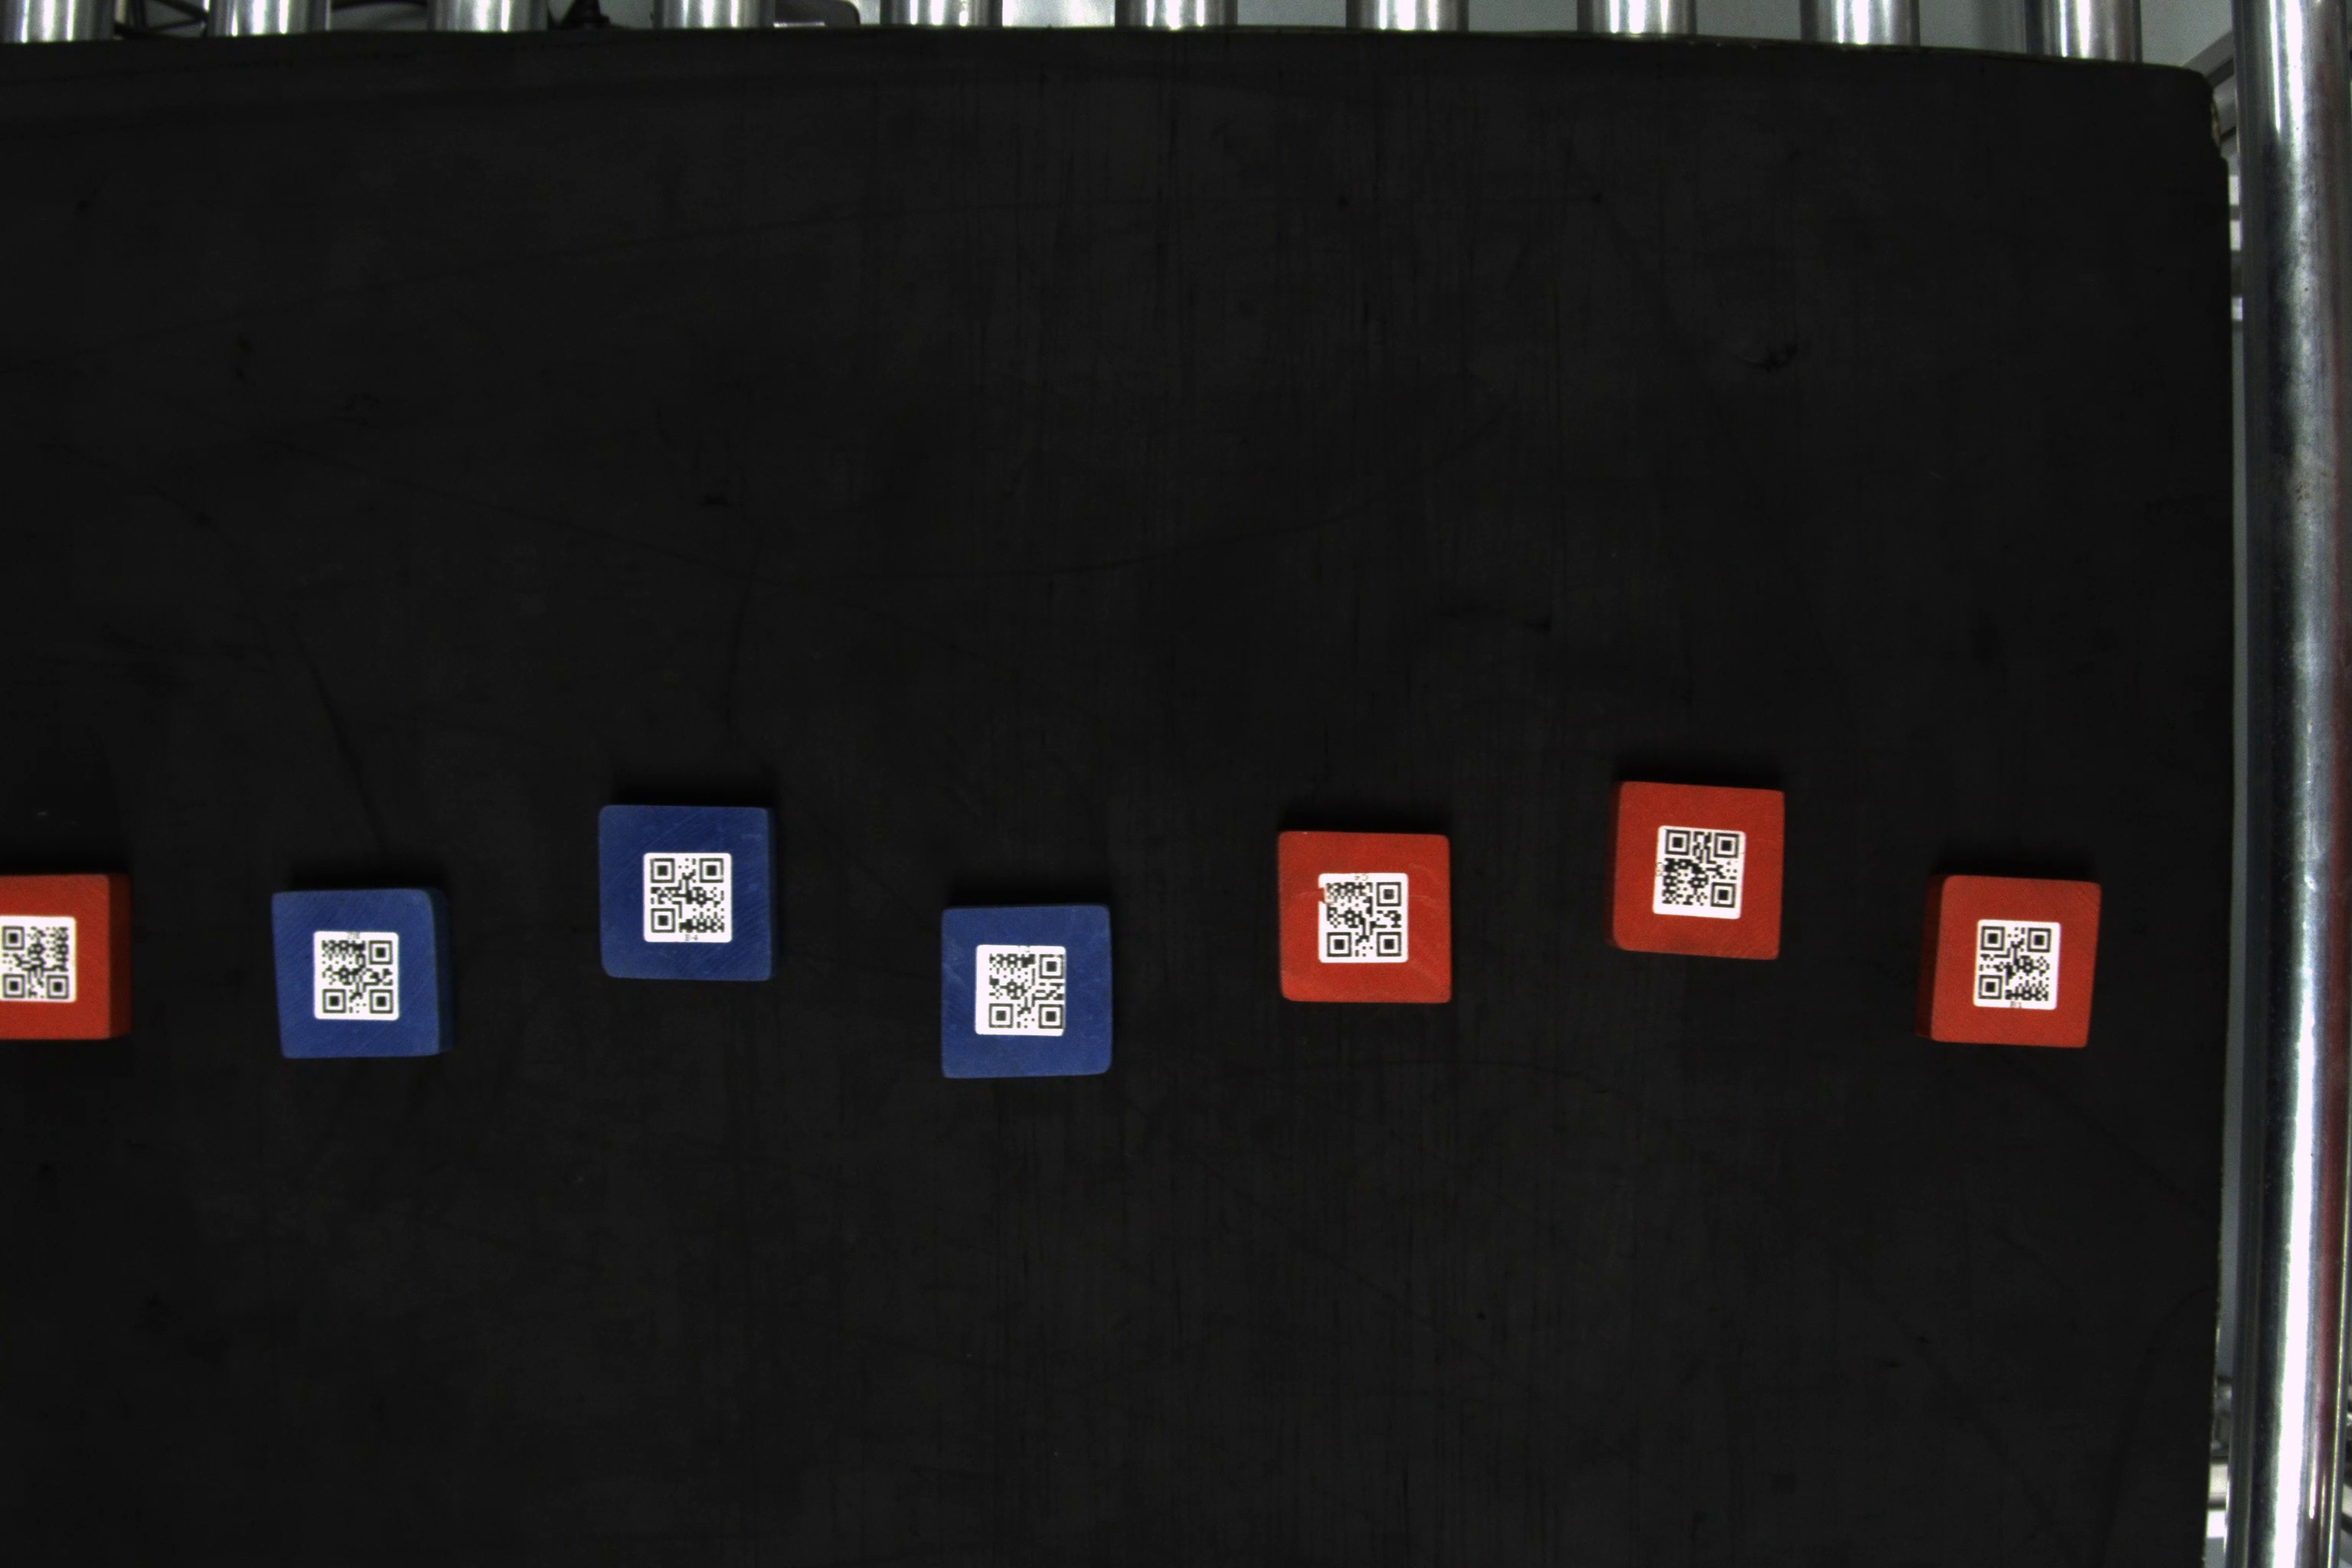wood: (591, 803, 784, 990), (1603, 777, 1788, 968), (1914, 871, 2103, 1055), (1270, 826, 1458, 1008), (934, 903, 1123, 1083), (268, 889, 455, 1066), (3, 871, 138, 1045)
